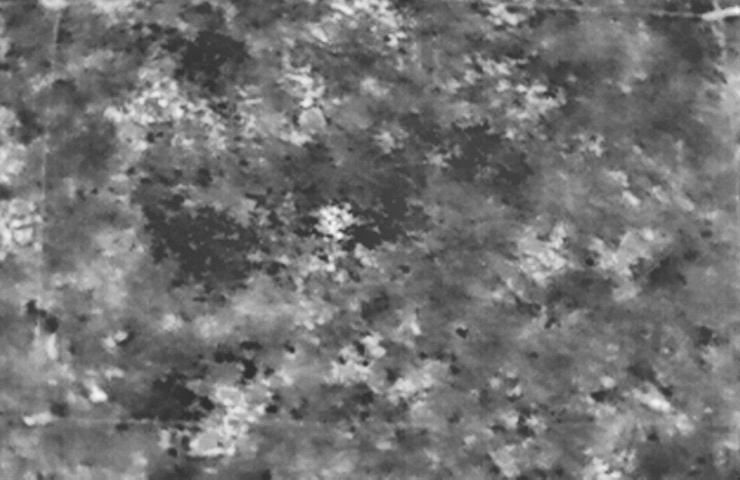landmines: (316, 201, 361, 241)
